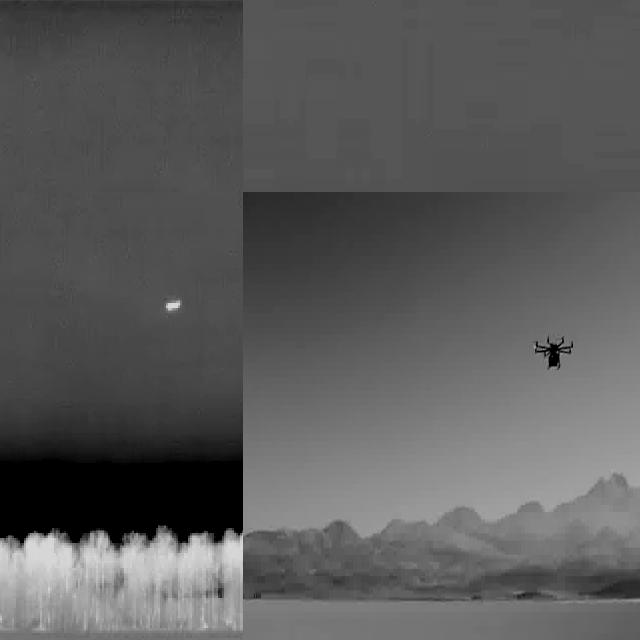1: (156, 294, 192, 324)
drone: (534, 331, 576, 377)
